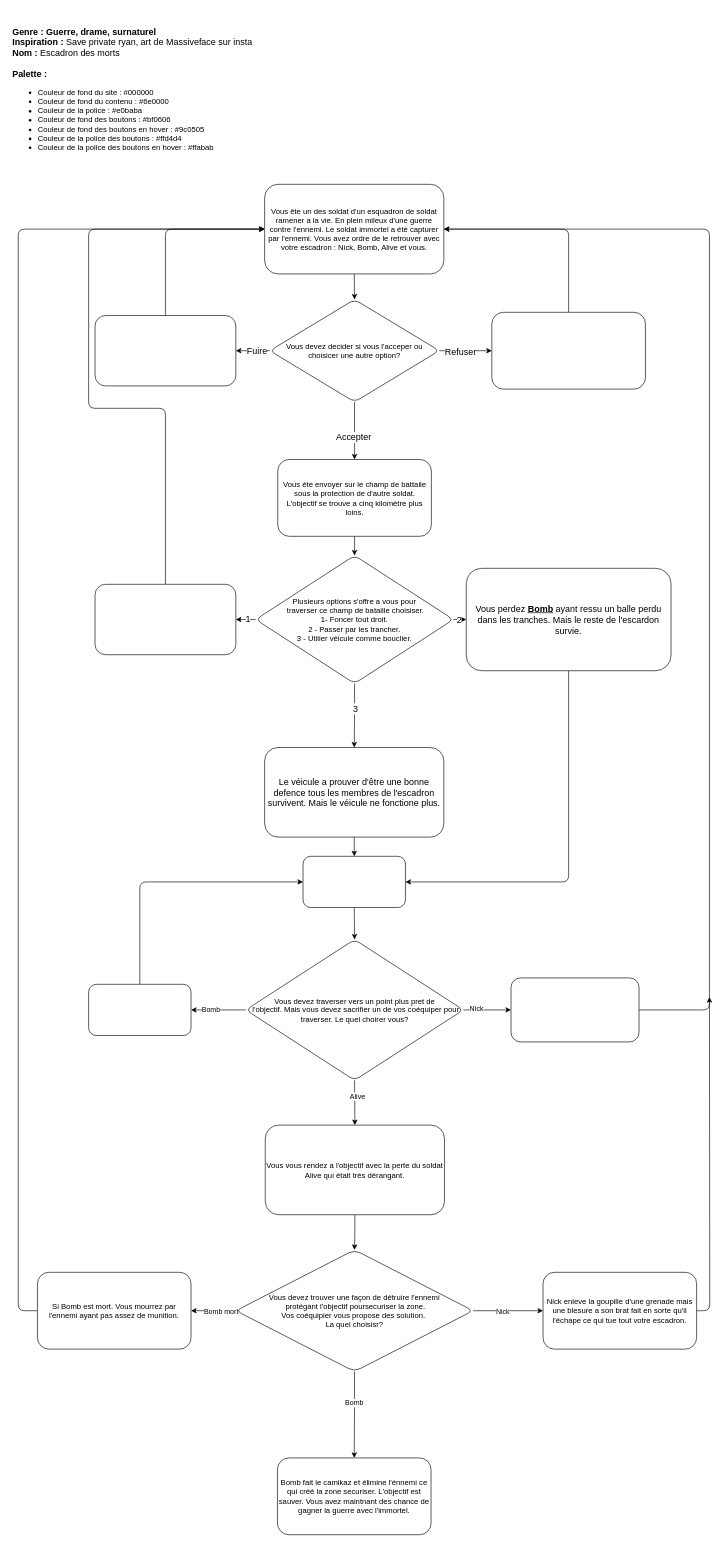
The diagram is 726 pixels wide and 1546 high, and some of its shapes have lost their labels. Here are the shapes that lost their labels. From the top down, the centre of each, then its label:
the point at 165,350: Tuer par l'ennemi
the point at 568,350: Vous été executer pour avoir desobéie un rodre direct.
the point at 165,619: Vous ête tuer par l'ennemi
the point at 353,882: Vous ête à 3 km de l'objectif.
the point at 139,1010: Bomb tombe sur une mine et meure avant de pouvoir aider.
the point at 574,1009: Le reste de votre esquadron vous tue pour vouloir sacrifier le farceur Nick.
